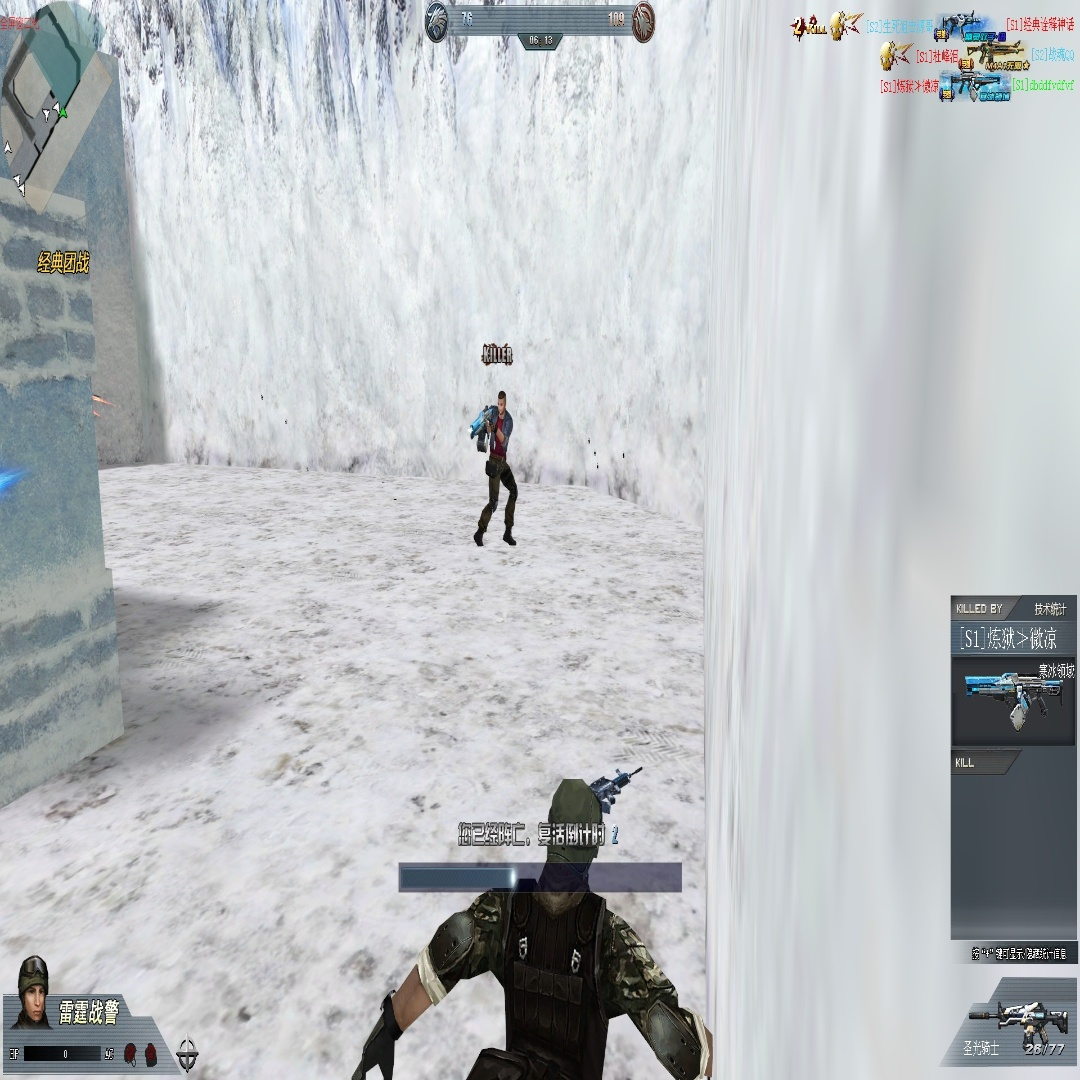t: (477, 388, 518, 550)
